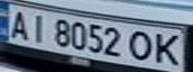0: (66, 19, 87, 52)
2: (103, 25, 127, 58)
5: (84, 21, 106, 55)
8: (48, 16, 72, 48)
A: (3, 7, 33, 40)
I: (24, 11, 51, 43)
K: (148, 30, 187, 68)
O: (127, 28, 157, 62)
